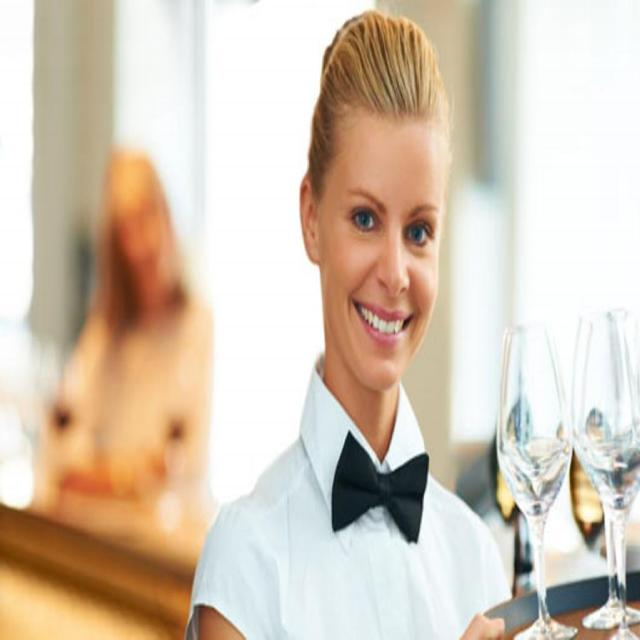nomask: (319, 97, 446, 389)
